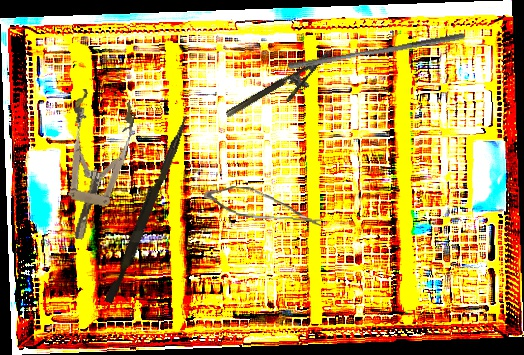Micro Scissor: (203, 184, 326, 227)
Needle Holder: (224, 50, 342, 132)
Pusher: (104, 112, 190, 306), (287, 25, 466, 77)
Speculum: (47, 87, 139, 246)
